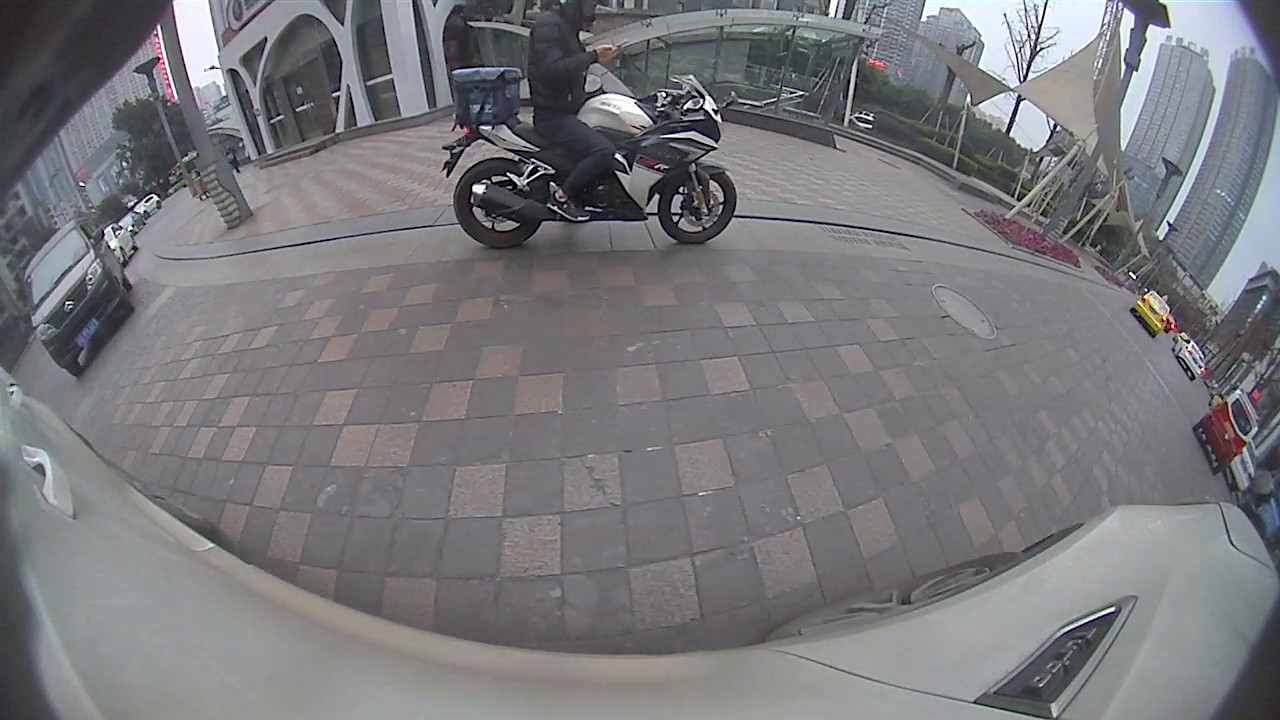car: (22, 218, 134, 377), (1193, 387, 1257, 475), (1130, 289, 1172, 338)
front: (659, 166, 735, 244)
rear: (454, 157, 547, 249)
rider: (443, 1, 739, 250)
